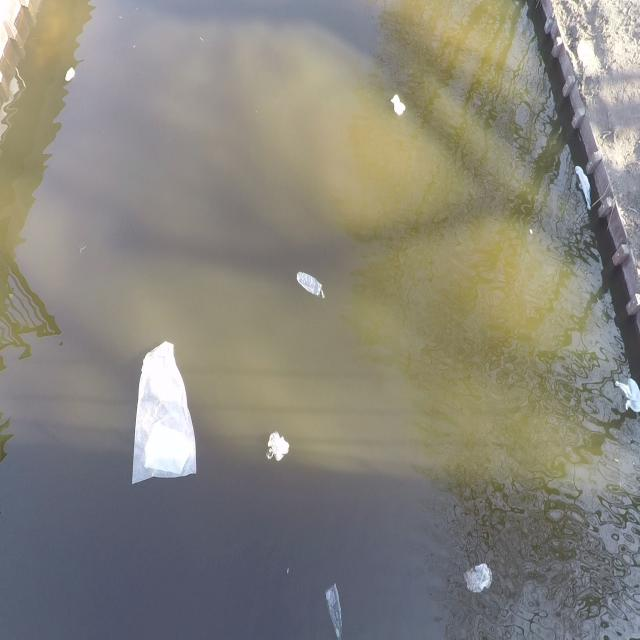Sac plastique: (125, 333, 204, 497), (460, 555, 499, 600), (320, 578, 344, 640), (290, 267, 332, 302), (260, 429, 296, 469), (612, 377, 640, 423), (574, 161, 594, 216), (388, 86, 409, 121)
